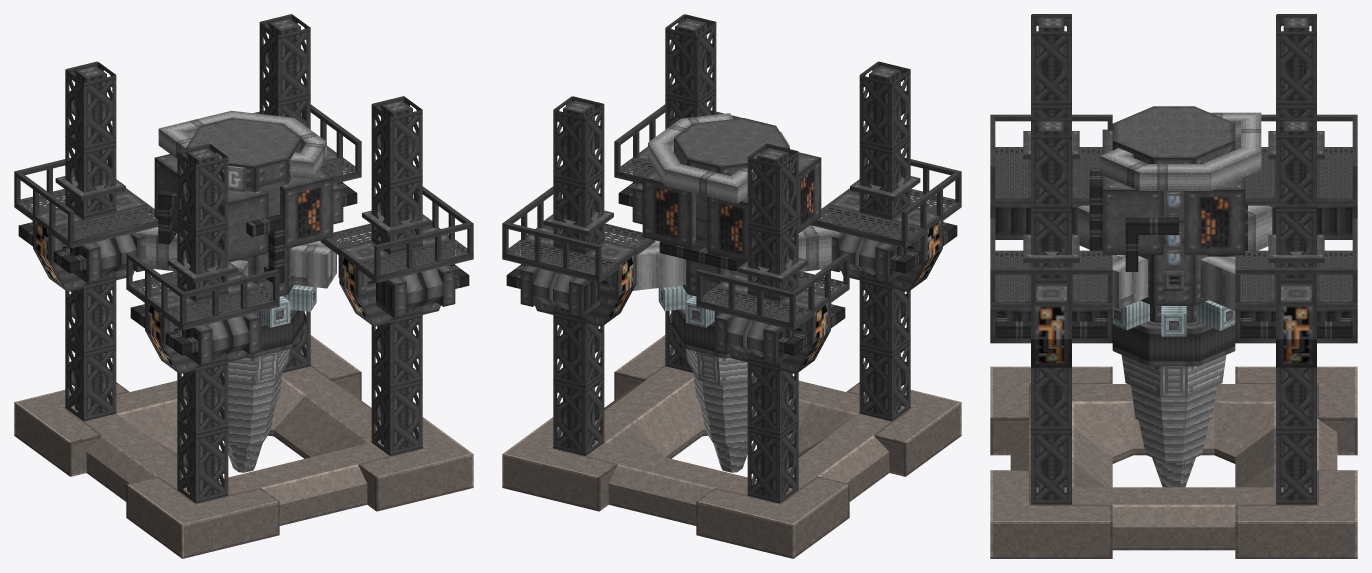
The model's file is coredrill.obj.
The picture shows the model from 3 angles, left to right: view 1: azimuth 30°, elevation 25°; view 2: azimuth 150°, elevation 25°; view 3: azimuth 270°, elevation 25°; orthographic projection. The views are drawn at different scales.
Visible parts, largest first — view 1: cylinder; view 2: cylinder; view 3: cylinder.
Part boxes in pixels (box(x1,y1,x2,y2)): cylinder: box(14, 14, 473, 558); cylinder: box(502, 14, 961, 558); cylinder: box(990, 14, 1357, 558).
Bounding box in the file's own units: 9 × 11.19 × 9.
